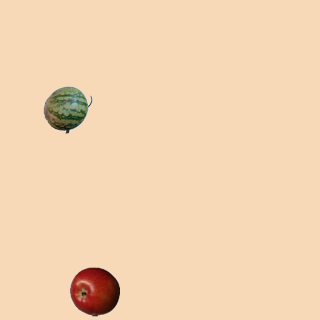Apple Braeburn: (69, 266, 119, 316)
Watermelon: (42, 84, 92, 134)
